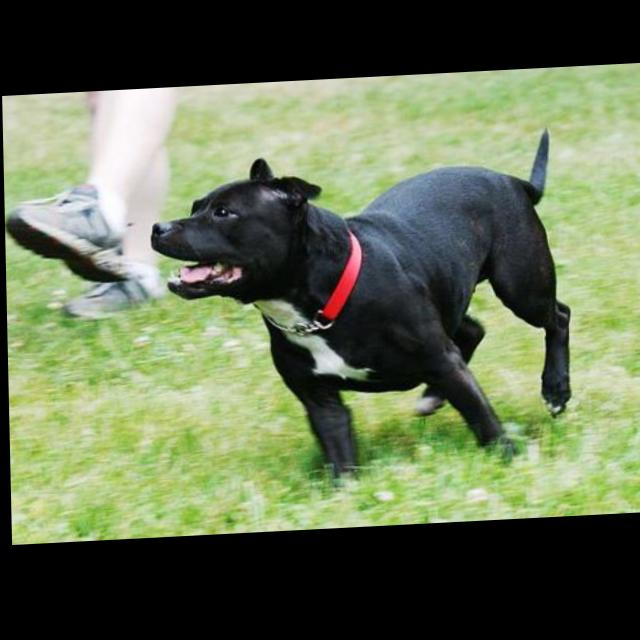staffford: (149, 132, 574, 499)
